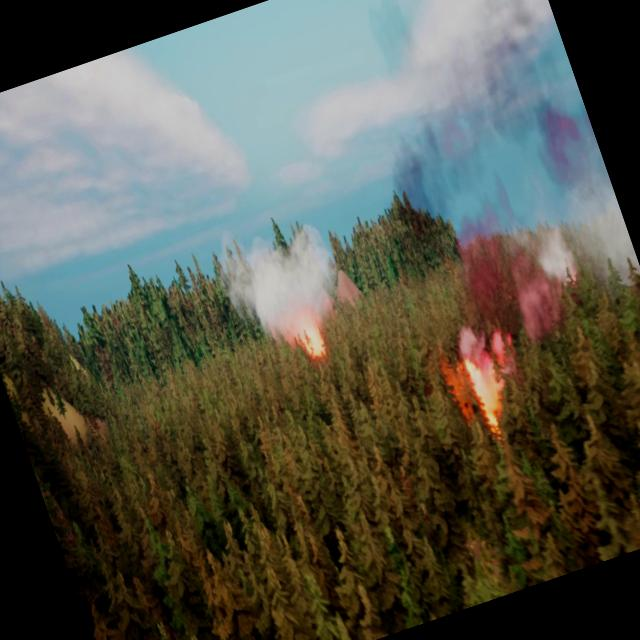fire: (456, 342, 517, 432), (290, 311, 336, 364)
smoke: (347, 19, 640, 367), (212, 202, 361, 360)
